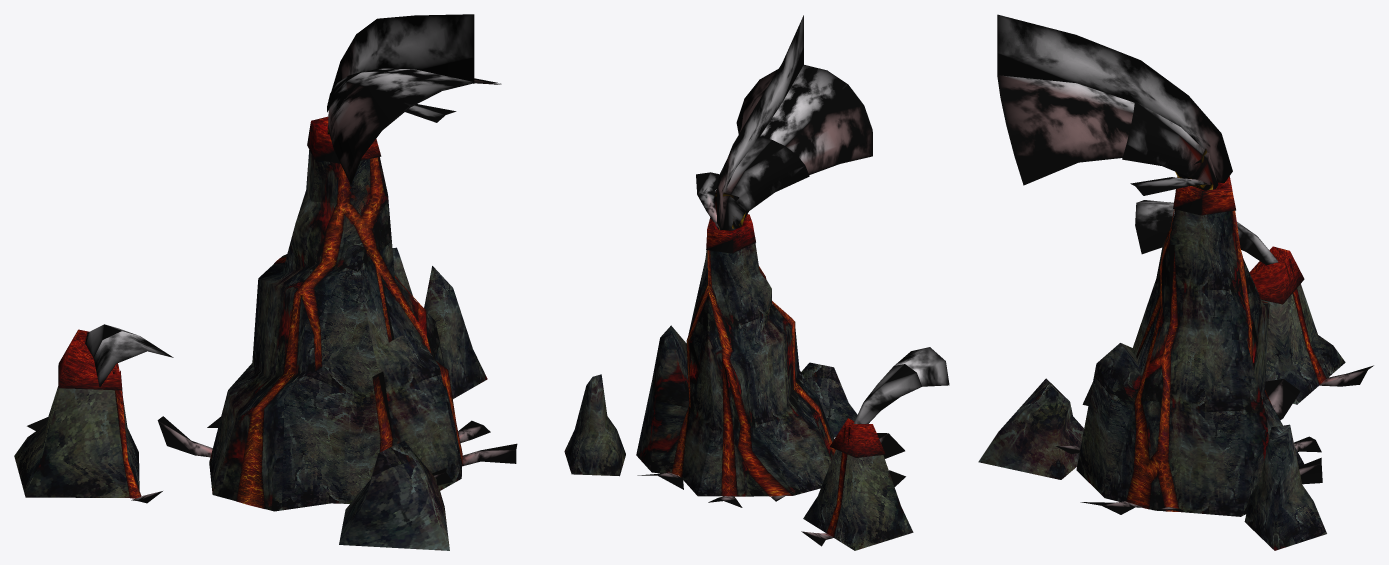
Rendered from nml-bd151.glb.
3 views of the same model, side by side, from view 1: azimuth 30°, elevation 25°; view 2: azimuth 150°, elevation 25°; view 3: azimuth 270°, elevation 25° (orthographic). The views are drawn at different scales.
Visible parts, largest first — view 1: geom_node_1, geom_node_8, geom_node_3, geom_node_4, geom_node_5, geom_node_2, geom_node_6, geom_node_0, geom_node_7, geom_node_9, geom_node_14, geom_node_15; view 2: geom_node_1, geom_node_8, geom_node_2, geom_node_3, geom_node_5, geom_node_10, geom_node_6, geom_node_4, geom_node_11, geom_node_0, geom_node_7, geom_node_9 (+3 smaller); view 3: geom_node_2, geom_node_8, geom_node_1, geom_node_5, geom_node_4, geom_node_3, geom_node_10, geom_node_6, geom_node_0, geom_node_7, geom_node_15, geom_node_9 (+4 smaller).
Boxes of the visible parts, bbox=[...] form: geom_node_1: bbox=[209, 190, 461, 511]; geom_node_8: bbox=[328, 14, 501, 184]; geom_node_3: bbox=[14, 386, 139, 497]; geom_node_4: bbox=[339, 441, 449, 550]; geom_node_5: bbox=[252, 196, 462, 465]; geom_node_2: bbox=[392, 247, 487, 476]; geom_node_6: bbox=[58, 329, 265, 508]; geom_node_0: bbox=[306, 150, 387, 203]; geom_node_7: bbox=[307, 116, 384, 203]; geom_node_9: bbox=[93, 331, 173, 387]; geom_node_14: bbox=[432, 420, 517, 485]; geom_node_15: bbox=[27, 416, 220, 457]; geom_node_1: bbox=[682, 260, 834, 496]; geom_node_8: bbox=[717, 15, 872, 230]; geom_node_2: bbox=[564, 325, 688, 476]; geom_node_3: bbox=[803, 449, 913, 550]; geom_node_5: bbox=[671, 266, 819, 496]; geom_node_10: bbox=[713, 136, 809, 230]; geom_node_6: bbox=[818, 407, 885, 536]; geom_node_4: bbox=[801, 362, 857, 437]; geom_node_11: bbox=[853, 364, 921, 423]; geom_node_0: bbox=[705, 224, 759, 286]; geom_node_7: bbox=[706, 214, 755, 289]; geom_node_9: bbox=[869, 347, 949, 422]; geom_node_2: bbox=[1105, 321, 1326, 550]; geom_node_8: bbox=[997, 14, 1232, 185]; geom_node_1: bbox=[1076, 231, 1304, 497]; geom_node_5: bbox=[1126, 227, 1271, 511]; geom_node_4: bbox=[978, 378, 1083, 479]; geom_node_3: bbox=[1262, 284, 1345, 404]; geom_node_10: bbox=[1122, 101, 1218, 189]; geom_node_6: bbox=[1249, 246, 1326, 385]; geom_node_0: bbox=[1169, 209, 1235, 249]; geom_node_7: bbox=[1168, 176, 1240, 247]; geom_node_15: bbox=[1264, 365, 1373, 452]; geom_node_9: bbox=[1135, 200, 1174, 254].
Size of the model in its own units: 16.09 by 17.28 by 13.27.
Materials: 21 (21 with a texture image).
